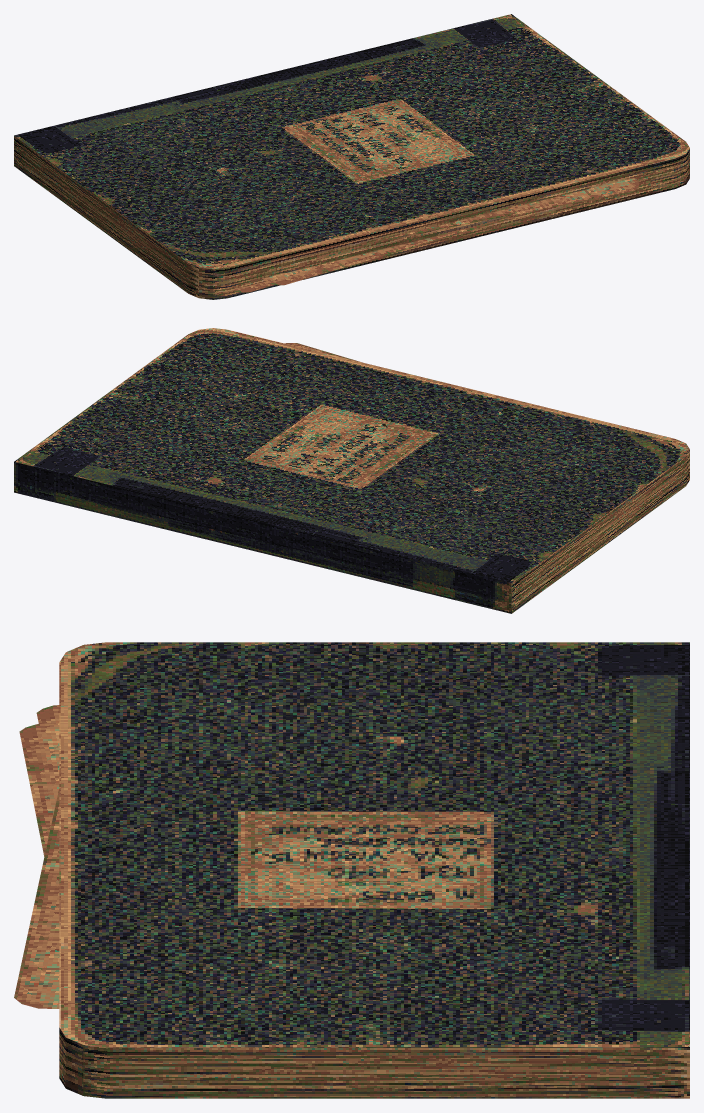
Rendered from psx_-_old_notebook.glb.
3 renders of one model, top to bottom at view 1: azimuth 30°, elevation 25°; view 2: azimuth 150°, elevation 25°; view 3: azimuth 270°, elevation 25°, orthographic. The views are drawn at different scales.
Parts seen in each view (by area): view 1: polySurface85; view 2: polySurface85; view 3: polySurface85.
Part boxes in pixels (bbox=[...]): polySurface85: bbox=[14, 14, 689, 299]; polySurface85: bbox=[14, 328, 689, 613]; polySurface85: bbox=[14, 642, 689, 1098].
Bounding box in the file's own units: 0.0406 × 0.00239 × 0.0286.
Materials: 1 (1 with a texture image).
